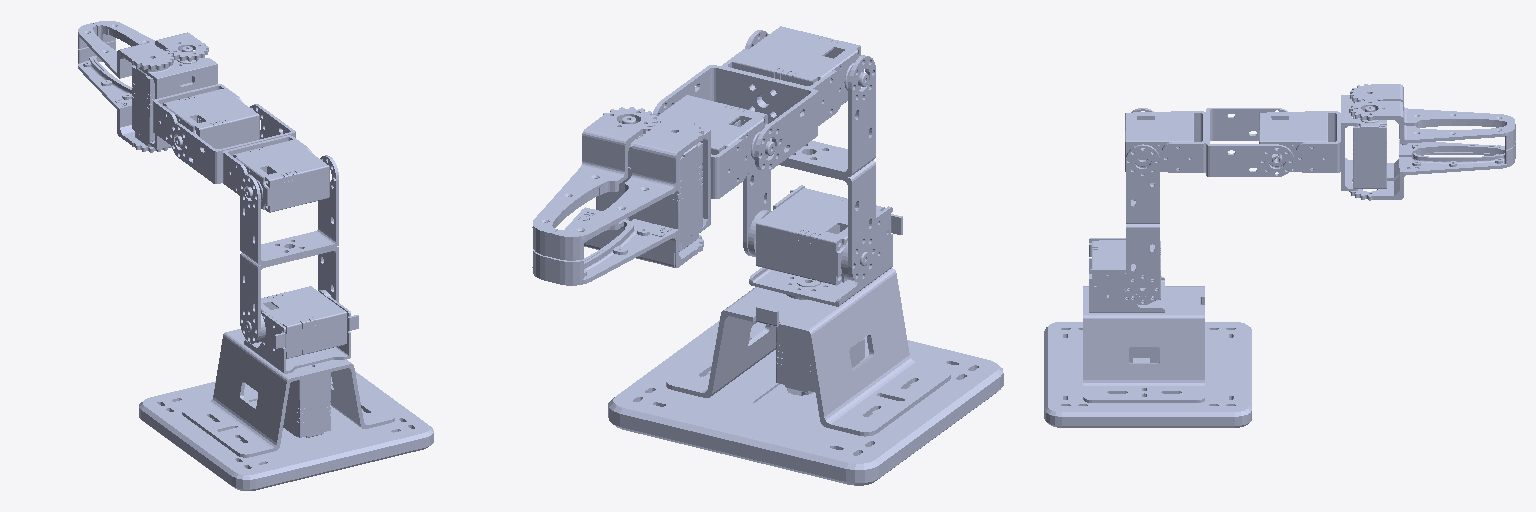
robot.urdf — are1018_urdf:
<?xml version="1.0" encoding="utf-8"?>
<!-- This URDF was automatically created by SolidWorks to URDF Exporter! Originally created by [author] ([email redacted]) 
     Commit Version: 1.6.0-4-g7f85cfe  Build Version: 1.6.7995.38578
     For more information, please see http://wiki.ros.org/sw_urdf_exporter -->
<robot
  name="are1018_urdf">
  <link
    name="base_link">
    <inertial>
      <origin
        xyz="6.91778333542455E-09 -0.000987638055765809 0.00969950688294337"
        rpy="0 0 0" />
      <mass
        value="0.170234591037879" />
      <inertia
        ixx="0.000190344867929517"
        ixy="-1.49585044621151E-11"
        ixz="-2.87752206040831E-12"
        iyy="0.000209895117595717"
        iyz="-4.25280510149574E-08"
        izz="0.000385505347421722" />
    </inertial>
    <visual>
      <origin
        xyz="0 0 0"
        rpy="0 0 0" />
      <geometry>
        <mesh
          filename="package://are1018_urdf/meshes/visual/base_link.STL" />
      </geometry>
      <material
        name="">
        <color
          rgba="0.792156862745098 0.819607843137255 0.933333333333333 1" />
      </material>
    </visual>
    <collision>
      <origin
        xyz="0 0 0"
        rpy="0 0 0" />
      <geometry>
        <mesh
          filename="package://are1018_urdf/meshes/visual/base_link.STL" />
      </geometry>
    </collision>
  </link>
  <link
    name="link0">
    <inertial>
      <origin
        xyz="-0.000148686471246822 -0.0108477499496043 0.0127257064637936"
        rpy="0 0 0" />
      <mass
        value="0.0134533721751118" />
      <inertia
        ixx="2.84098753200003E-06"
        ixy="-3.43071595594812E-09"
        ixz="5.30738424474361E-11"
        iyy="2.18307388098522E-06"
        iyz="2.00194190669691E-07"
        izz="3.55990656348061E-06" />
    </inertial>
    <visual>
      <origin
        xyz="0 0 0"
        rpy="0 0 0" />
      <geometry>
        <mesh
          filename="package://are1018_urdf/meshes/visual/link0.STL" />
      </geometry>
      <material
        name="">
        <color
          rgba="0.792156862745098 0.819607843137255 0.933333333333333 1" />
      </material>
    </visual>
    <collision>
      <origin
        xyz="0 0 0"
        rpy="0 0 0" />
      <geometry>
        <mesh
          filename="package://are1018_urdf/meshes/visual/link0.STL" />
      </geometry>
    </collision>
  </link>
  <joint
    name="joint0"
    type="revolute">
    <origin
      xyz="0 -0.0025386 0.05375"
      rpy="0 0 0" />
    <parent
      link="base_link" />
    <child
      link="link0" />
    <axis
      xyz="0 0 -1" />
    <limit
      lower="-2"
      upper="2"
      effort="100"
      velocity="1" />
  </joint>
  <link
    name="link1">
    <inertial>
      <origin
        xyz="-2.62658044619668E-09 -0.0345571058935115 0.0254946423103066"
        rpy="0 0 0" />
      <mass
        value="0.0120579589553567" />
      <inertia
        ixx="7.19129614481569E-06"
        ixy="-6.77986390248771E-09"
        ixz="7.78451970892812E-21"
        iyy="5.27353232807871E-06"
        iyz="-2.09008873732233E-19"
        izz="2.71342255945596E-06" />
    </inertial>
    <visual>
      <origin
        xyz="0 0 0"
        rpy="0 0 0" />
      <geometry>
        <mesh
          filename="package://are1018_urdf/meshes/visual/link1.STL" />
      </geometry>
      <material
        name="">
        <color
          rgba="0.792156862745098 0.819607843137255 0.933333333333333 1" />
      </material>
    </visual>
    <collision>
      <origin
        xyz="0 0 0"
        rpy="0 0 0" />
      <geometry>
        <mesh
          filename="package://are1018_urdf/meshes/visual/link1.STL" />
      </geometry>
    </collision>
  </link>
  <joint
    name="joint1"
    type="revolute">
    <origin
      xyz="0.02575 -0.00081639 0.017894"
      rpy="-1.5708 0 1.5708" />
    <parent
      link="link0" />
    <child
      link="link1" />
    <axis
      xyz="0 0 1" />
    <limit
      lower="-0.9"
      upper="1.5"
      effort="100"
      velocity="1" />
  </joint>
  <link
    name="link2">
    <inertial>
      <origin
        xyz="0.0265477568891185 5.89201840095477E-10 0.0209223131306843"
        rpy="0 0 0" />
      <mass
        value="0.0163235420272894" />
      <inertia
        ixx="4.24056894578294E-06"
        ixy="3.38988499063713E-09"
        ixz="-3.36881501952228E-09"
        iyy="6.33118981534796E-06"
        iyz="-4.63361240339478E-15"
        izz="3.44644530707849E-06" />
    </inertial>
    <visual>
      <origin
        xyz="0 0 0"
        rpy="0 0 0" />
      <geometry>
        <mesh
          filename="package://are1018_urdf/meshes/visual/link2.STL" />
      </geometry>
      <material
        name="">
        <color
          rgba="0.792156862745098 0.819607843137255 0.933333333333333 1" />
      </material>
    </visual>
    <collision>
      <origin
        xyz="0 0 0"
        rpy="0 0 0" />
      <geometry>
        <mesh
          filename="package://are1018_urdf/meshes/visual/link2.STL" />
      </geometry>
    </collision>
  </link>
  <joint
    name="joint2"
    type="revolute">
    <origin
      xyz="0 -0.081399 0.00495"
      rpy="0 0 0" />
    <parent
      link="link1" />
    <child
      link="link2" />
    <axis
      xyz="0 0 1" />
    <limit
      lower="-3.14"
      upper="0.9"
      effort="100"
      velocity="1" />
  </joint>
  <link
    name="link3">
    <inertial>
      <origin
        xyz="0.0338316024275452 -8.95955161251544E-05 0.0210634009704761"
        rpy="0 0 0" />
      <mass
        value="0.0266121463125793" />
      <inertia
        ixx="6.11128645475265E-06"
        ixy="-1.41339391021082E-12"
        ixz="-2.37103119931184E-07"
        iyy="5.9084006432695E-06"
        iyz="3.3192141647198E-09"
        izz="5.13314117763412E-06" />
    </inertial>
    <visual>
      <origin
        xyz="0 0 0"
        rpy="0 0 0" />
      <geometry>
        <mesh
          filename="package://are1018_urdf/meshes/visual/link3.STL" />
      </geometry>
      <material
        name="">
        <color
          rgba="0.792156862745098 0.819607843137255 0.933333333333333 1" />
      </material>
    </visual>
    <collision>
      <origin
        xyz="0 0 0"
        rpy="0 0 0" />
      <geometry>
        <mesh
          filename="package://are1018_urdf/meshes/visual/link3.STL" />
      </geometry>
    </collision>
  </link>
  <joint
    name="joint3"
    type="revolute">
    <origin
      xyz="0.077374 0 0"
      rpy="0 0 0" />
    <parent
      link="link2" />
    <child
      link="link3" />
    <axis
      xyz="0 0 1" />
    <limit
      lower="-2"
      upper="1.5"
      effort="100"
      velocity="1" />
  </joint>
  <link
    name="link4_0">
    <inertial>
      <origin
        xyz="0.0330511280658098 0.000272774366305122 -0.0266302052102281"
        rpy="0 0 0" />
      <mass
        value="0.0086970283014079" />
      <inertia
        ixx="7.84856466527092E-07"
        ixy="-3.87408492985789E-07"
        ixz="3.33950203699119E-08"
        iyy="7.03452850502723E-06"
        iyz="4.11048560512625E-09"
        izz="6.77200341516074E-06" />
    </inertial>
    <visual>
      <origin
        xyz="0 0 0"
        rpy="0 0 0" />
      <geometry>
        <mesh
          filename="package://are1018_urdf/meshes/visual/link4_0.STL" />
      </geometry>
      <material
        name="">
        <color
          rgba="0.792156862745098 0.819607843137255 0.933333333333333 1" />
      </material>
    </visual>
    <collision>
      <origin
        xyz="0 0 0"
        rpy="0 0 0" />
      <geometry>
        <mesh
          filename="package://are1018_urdf/meshes/visual/link4_0.STL" />
      </geometry>
    </collision>
  </link>
  <joint
    name="joint4_0"
    type="revolute">
    <origin
      xyz="0.053675 -0.0266 0.0103"
      rpy="1.5708 -0.01083 0" />
    <parent
      link="link3" />
    <child
      link="link4_0" />
    <axis
      xyz="0 0 -1" />
    <limit
      lower="0"
      upper="2"
      effort="100"
      velocity="1" />
  </joint>
  <link
    name="link4_1">
    <inertial>
      <origin
        xyz="0.031501735492723 -0.000501563206578234 -0.0314925232676157"
        rpy="0 0 0" />
      <mass
        value="0.0137369834582284" />
      <inertia
        ixx="1.23822723867815E-06"
        ixy="6.75819876123419E-07"
        ixz="-7.55665133610328E-07"
        iyy="1.12944276667532E-05"
        iyz="5.43864342855235E-08"
        izz="1.08894179820153E-05" />
    </inertial>
    <visual>
      <origin
        xyz="0 0 0"
        rpy="0 0 0" />
      <geometry>
        <mesh
          filename="package://are1018_urdf/meshes/visual/link4_1.STL" />
      </geometry>
      <material
        name="">
        <color
          rgba="0.792156862745098 0.819607843137255 0.933333333333333 1" />
      </material>
    </visual>
    <collision>
      <origin
        xyz="0 0 0"
        rpy="0 0 0" />
      <geometry>
        <mesh
          filename="package://are1018_urdf/meshes/visual/link4_1.STL" />
      </geometry>
    </collision>
  </link>
  <joint
    name="joint4_1"
    type="revolute">
    <origin
      xyz="0.053675 -0.0263 0.0323"
      rpy="1.5708 -0.010399 0" />
    <parent
      link="link3" />
    <child
      link="link4_1" />
    <axis
      xyz="0 0 -1" />
    <limit
      lower="-2"
      upper="0"
      effort="100"
      velocity="1" />
  </joint>
</robot>

--- Render facts (derived) ---
Views: 3 orthographic renders of the robot side by side, from view 1: azimuth 30°, elevation 25°; view 2: azimuth 150°, elevation 25°; view 3: azimuth 270°, elevation 25°.
Robot: are1018_urdf — 7 links, 6 joints (6 revolute); root link base_link; default pose: every joint at zero.
Visible links, largest first — view 1: base_link, link3, link2, link1, link0, link4_1, link4_0; view 2: base_link, link2, link0, link4_1, link3, link1, link4_0; view 3: base_link, link2, link3, link1, link4_0, link4_1, link0.
Link boxes in pixels (x1,y1,x2,y2): base_link: [139, 329, 433, 490]; link3: [132, 46, 259, 149]; link2: [170, 104, 329, 212]; link1: [240, 155, 338, 343]; link0: [244, 286, 358, 373]; link4_1: [78, 23, 173, 152]; link4_0: [93, 21, 208, 61]; base_link: [608, 268, 1003, 485]; link2: [652, 26, 868, 171]; link0: [749, 185, 902, 306]; link4_1: [552, 119, 703, 285]; link3: [596, 95, 774, 251]; link1: [743, 30, 875, 281]; link4_0: [532, 107, 657, 281]; base_link: [1044, 286, 1251, 427]; link2: [1125, 108, 1293, 176]; link3: [1259, 95, 1386, 190]; link1: [1126, 108, 1159, 304]; link4_0: [1349, 100, 1514, 200]; link4_1: [1350, 84, 1515, 180]; link0: [1089, 238, 1164, 312].
Bounding box of the posed robot: 0.1276 × 0.2719 × 0.1798 m (x, y, z).
Meshes: 7 distinct files referenced, 7 mesh visuals loaded (7 binary STL).